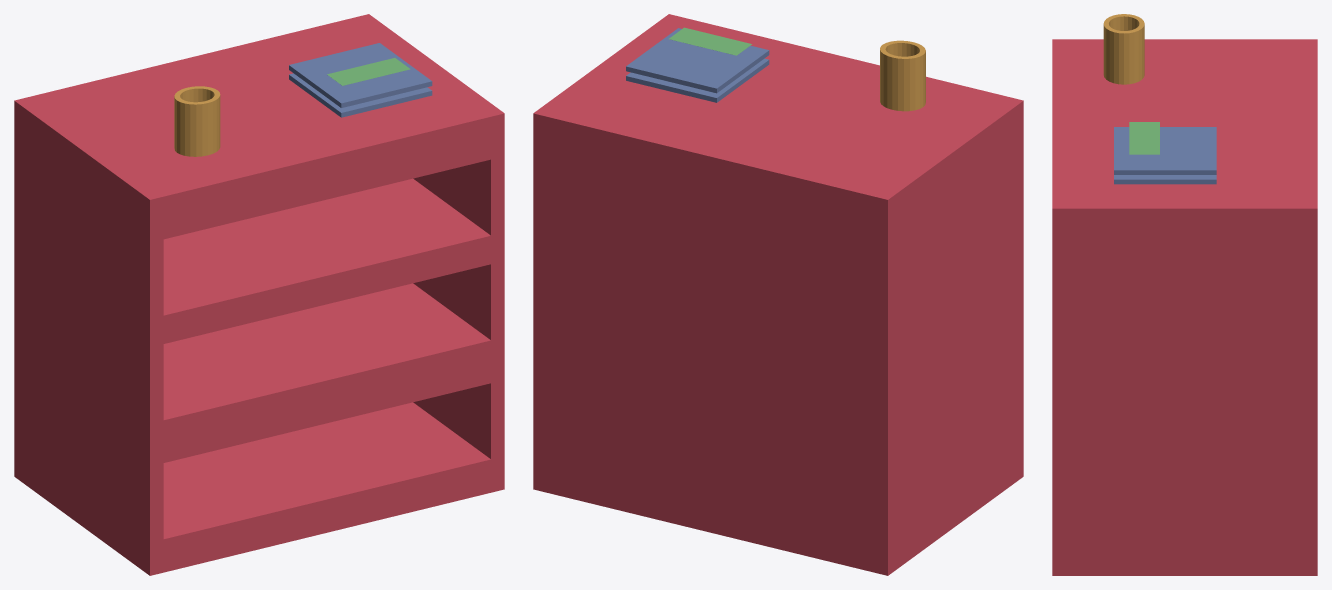
The model's file is Side Table Model.glb.
3 renders of one model, left to right at view 1: azimuth 30°, elevation 25°; view 2: azimuth 150°, elevation 25°; view 3: azimuth 270°, elevation 25°, orthographic. The views are drawn at different scales.
Parts seen in each view (by area): view 1: Mesh_Mesh_head_geo.001_lambert2SG.001; view 2: Mesh_Mesh_head_geo.001_lambert2SG.001; view 3: Mesh_Mesh_head_geo.001_lambert2SG.001.
Part boxes in pixels (<box>): Mesh_Mesh_head_geo.001_lambert2SG.001: <box>14,14,504,575</box>; Mesh_Mesh_head_geo.001_lambert2SG.001: <box>533,14,1023,575</box>; Mesh_Mesh_head_geo.001_lambert2SG.001: <box>1052,14,1317,575</box>.
Bounding box in the file's own units: 78 × 91 × 51.71.
